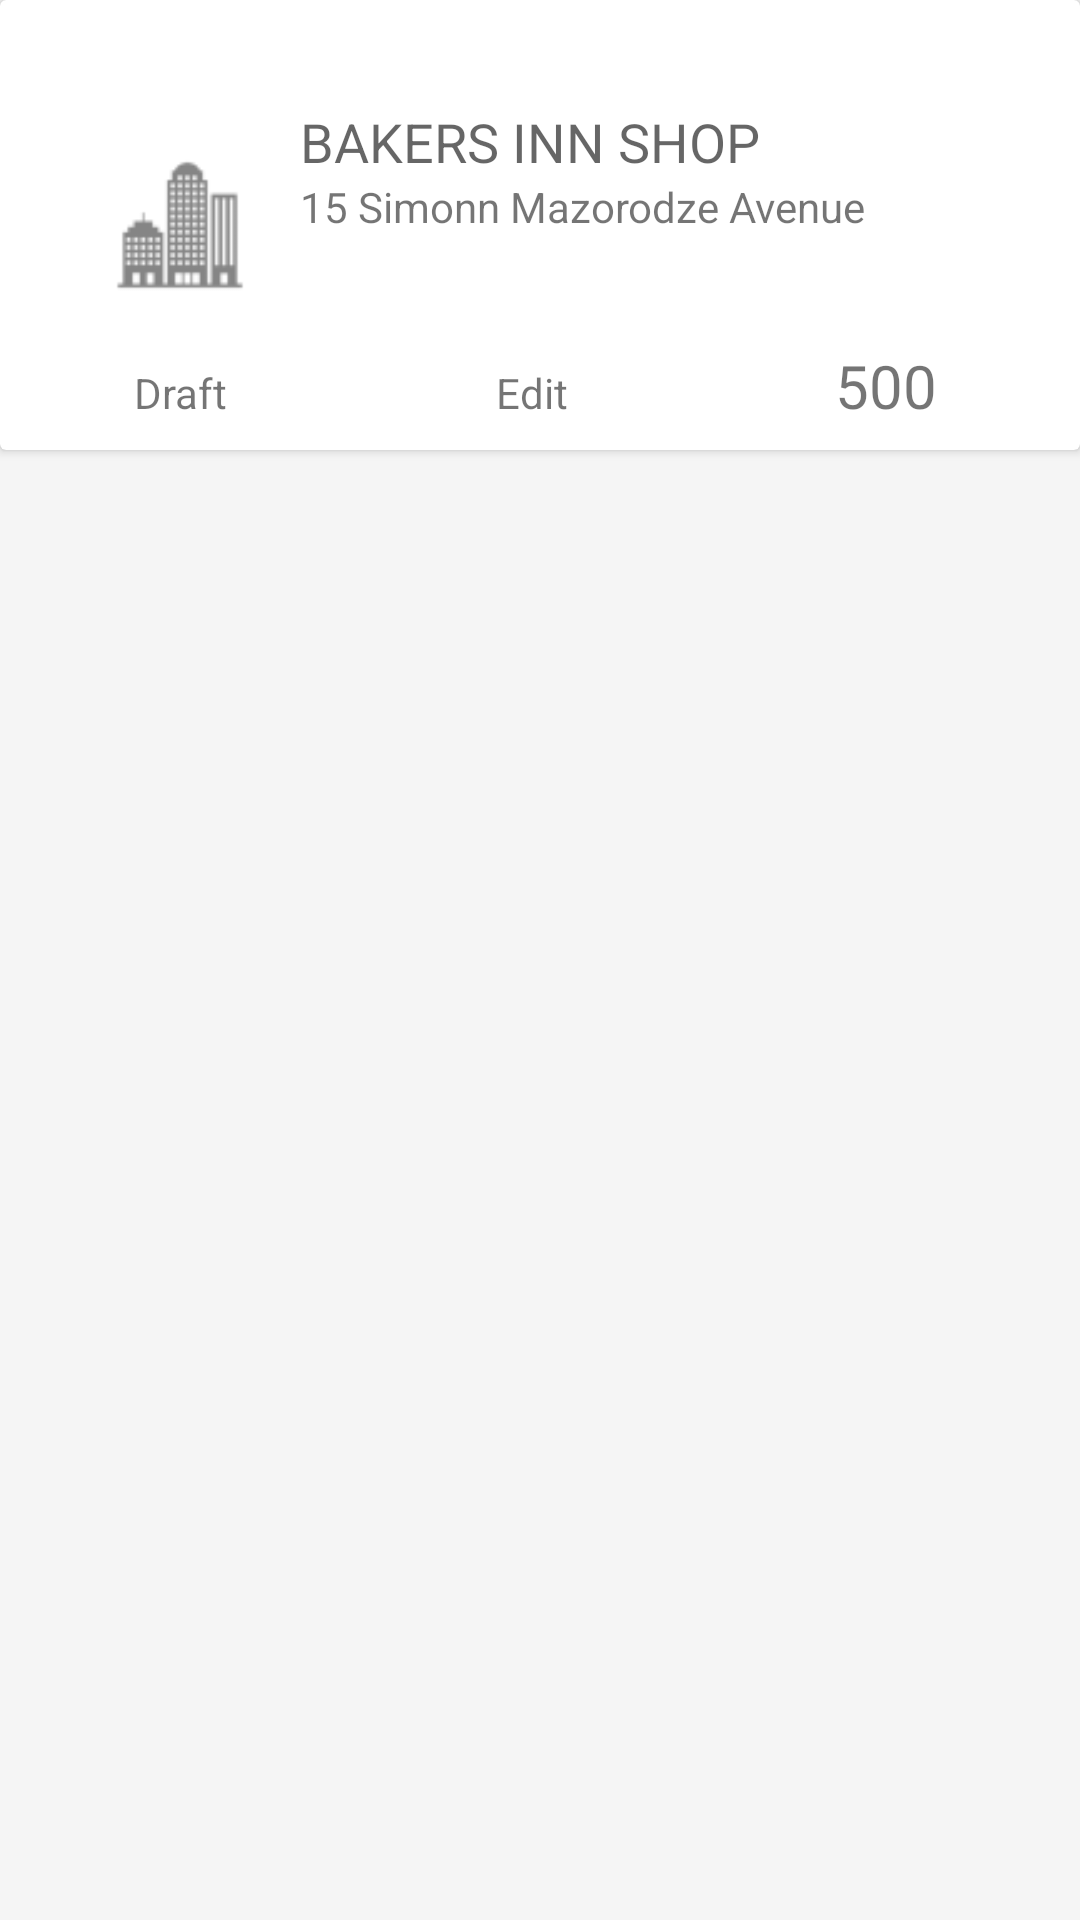

Icon click points for this 1080 × 1920 phone screenshot, format (x,y):
company: (180,225)
